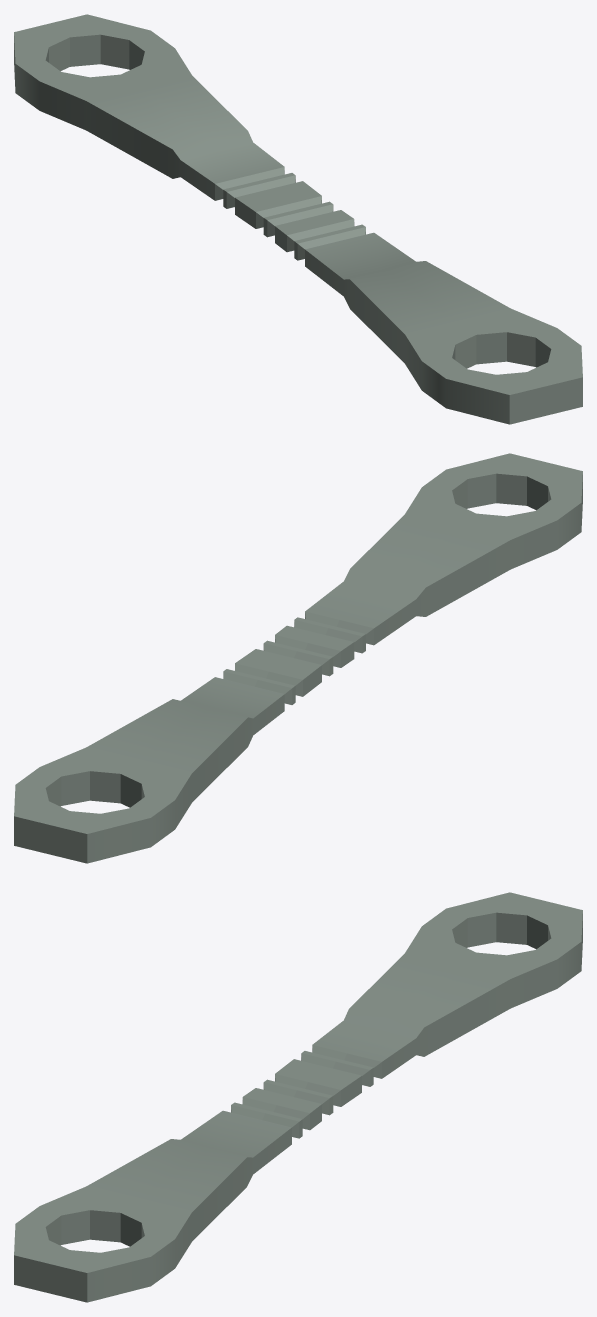
File: SM_tool_02.fbx
3 renders of one model, top to bottom at view 1: azimuth 30°, elevation 25°; view 2: azimuth 150°, elevation 25°; view 3: azimuth 330°, elevation 25°, orthographic.
Parts seen in each view (by area): view 1: tool_02; view 2: tool_02; view 3: tool_02.
Boxes of the visible parts, <box> form: tool_02: <box>14,14,582,424</box>; tool_02: <box>14,453,582,863</box>; tool_02: <box>14,892,582,1302</box>.
Bounding box in the file's own units: 10.49 × 2.18 × 66.46.
